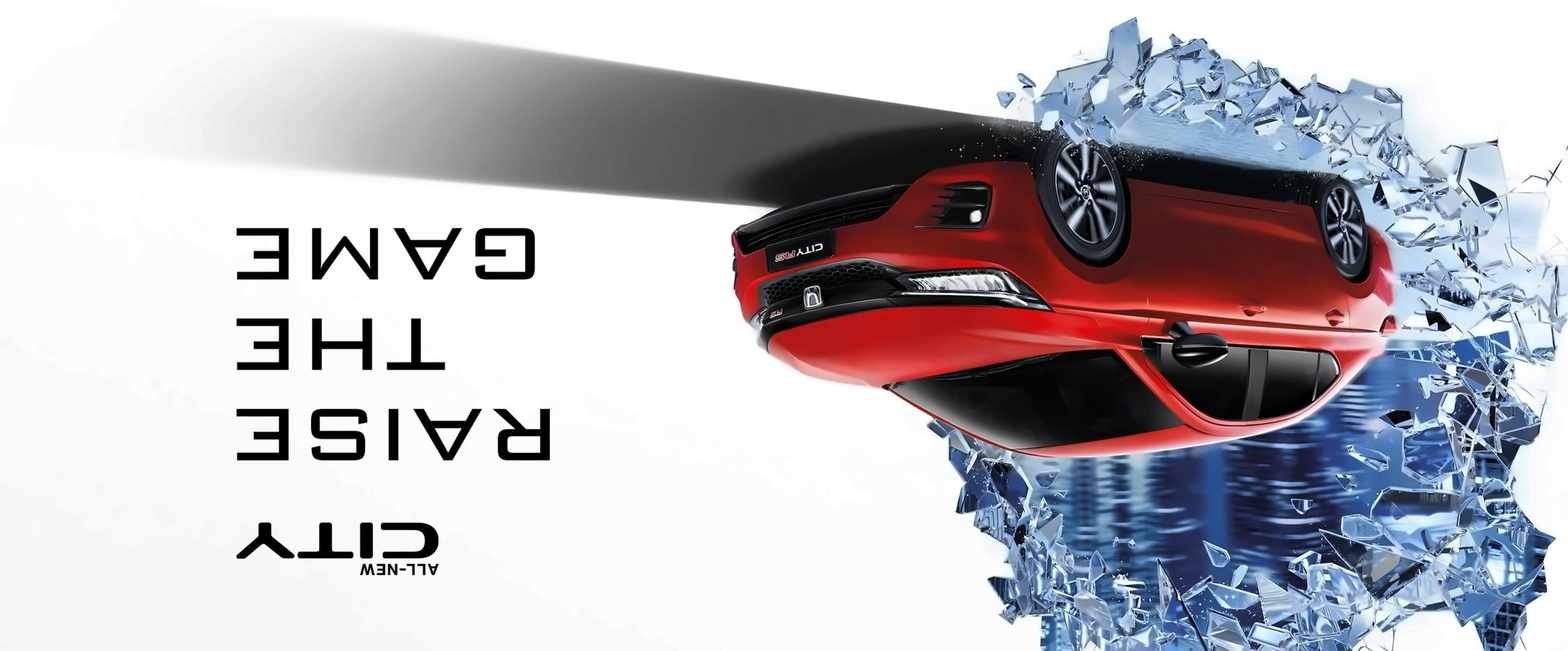Car hood: (764, 305, 1106, 392)
Driver-s door - -F-R-: (1148, 191, 1265, 429)
Fender - -F-R-: (1051, 180, 1148, 352)
Fender - -R-R-: (1313, 218, 1389, 351)
Front bumper: (722, 156, 1084, 303)
Headlight - -L-: (744, 303, 776, 348)
Headlight - -R-: (884, 259, 1056, 317)
Passenger-s door - -R-R-: (1265, 204, 1352, 433)
Rear bumper: (1364, 221, 1400, 310)
Rear light - -R-: (1374, 312, 1401, 344)
Side bumper - -R-: (1122, 174, 1322, 225)
Side mirror - -R-: (1161, 314, 1233, 371)
